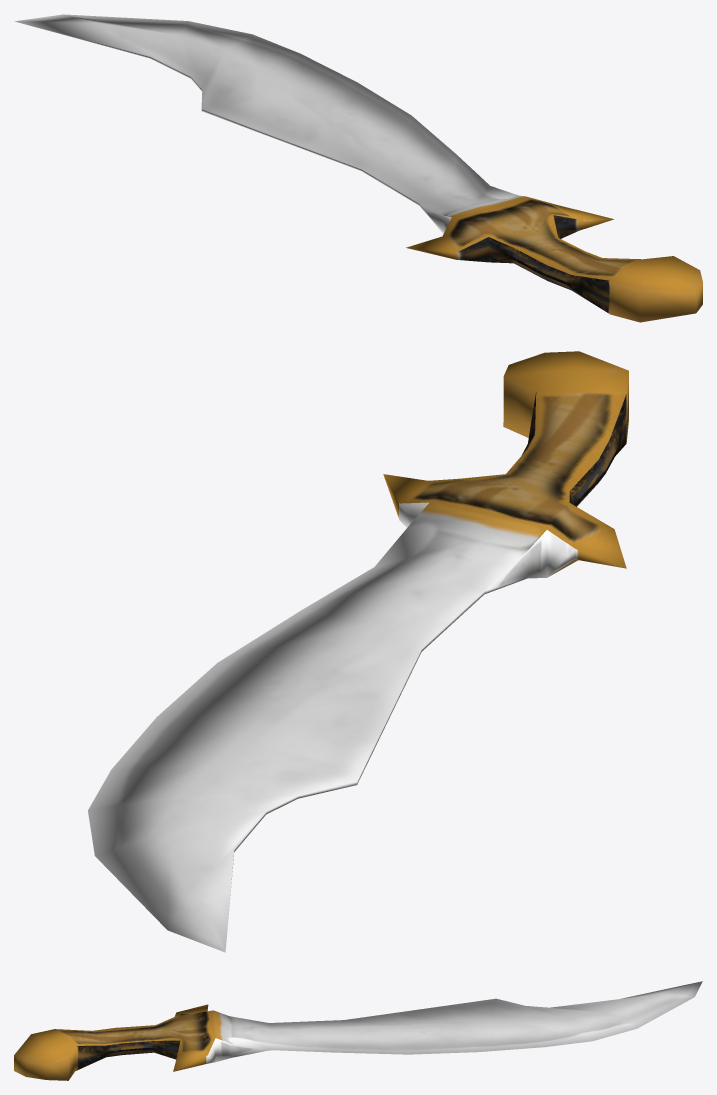
The model's file is Scimitar.fbx.
The picture shows the model from 3 angles, top to bottom: view 1: azimuth 30°, elevation 25°; view 2: azimuth 150°, elevation 25°; view 3: azimuth 270°, elevation 25°; orthographic projection. The views are drawn at different scales.
Visible parts, largest first — view 1: Scimitar; view 2: Scimitar; view 3: Scimitar.
Boxes of the visible parts, x1=… form: Scimitar: x1=14, y1=14, x2=702, y2=322; Scimitar: x1=88, y1=351, x2=628, y2=952; Scimitar: x1=14, y1=981, x2=702, y2=1080.
Size of the model in its own units: 4.39 by 0.6315 by 14.
